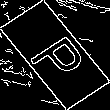P_NE: (20, 25, 90, 85)
